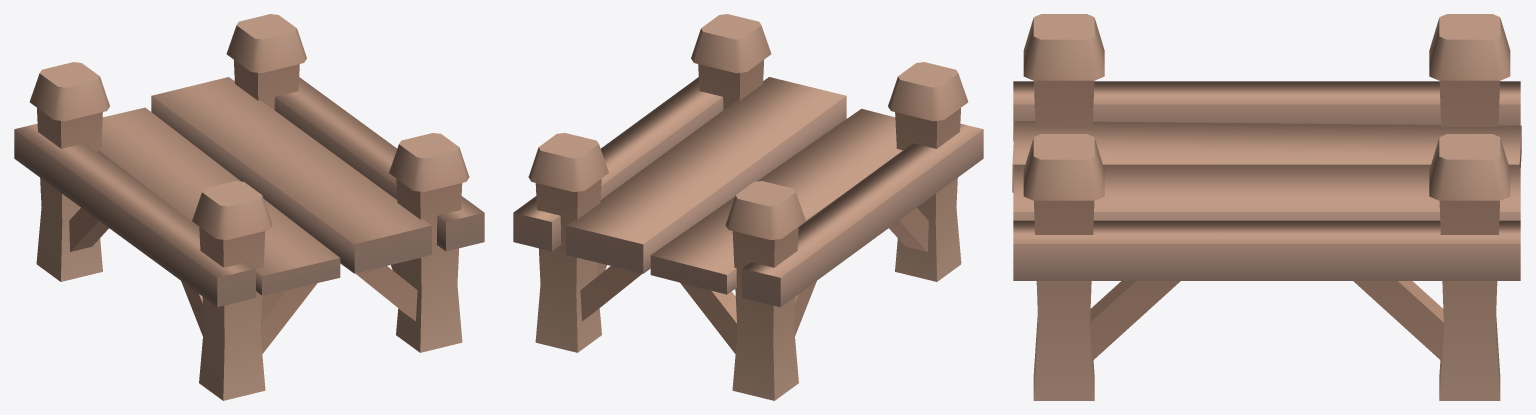
File: structure-platform-dock-small.glb
3 renders of one model, left to right at view 1: azimuth 30°, elevation 25°; view 2: azimuth 150°, elevation 25°; view 3: azimuth 270°, elevation 25°, orthographic. The views are drawn at different scales.
Visible parts, largest first — view 1: structure-platform-dock-small; view 2: structure-platform-dock-small; view 3: structure-platform-dock-small.
Boxes of the visible parts, left/top/right/bottom form: structure-platform-dock-small: left=14, top=14, right=484, bottom=400; structure-platform-dock-small: left=513, top=14, right=983, bottom=400; structure-platform-dock-small: left=1012, top=14, right=1521, bottom=400.
Bounding box in the file's own units: 1.9 × 1.31 × 2.51.
